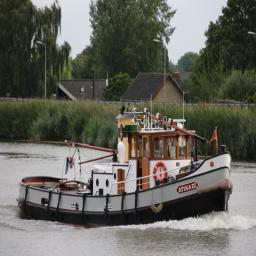tugboat: (15, 104, 235, 234)
